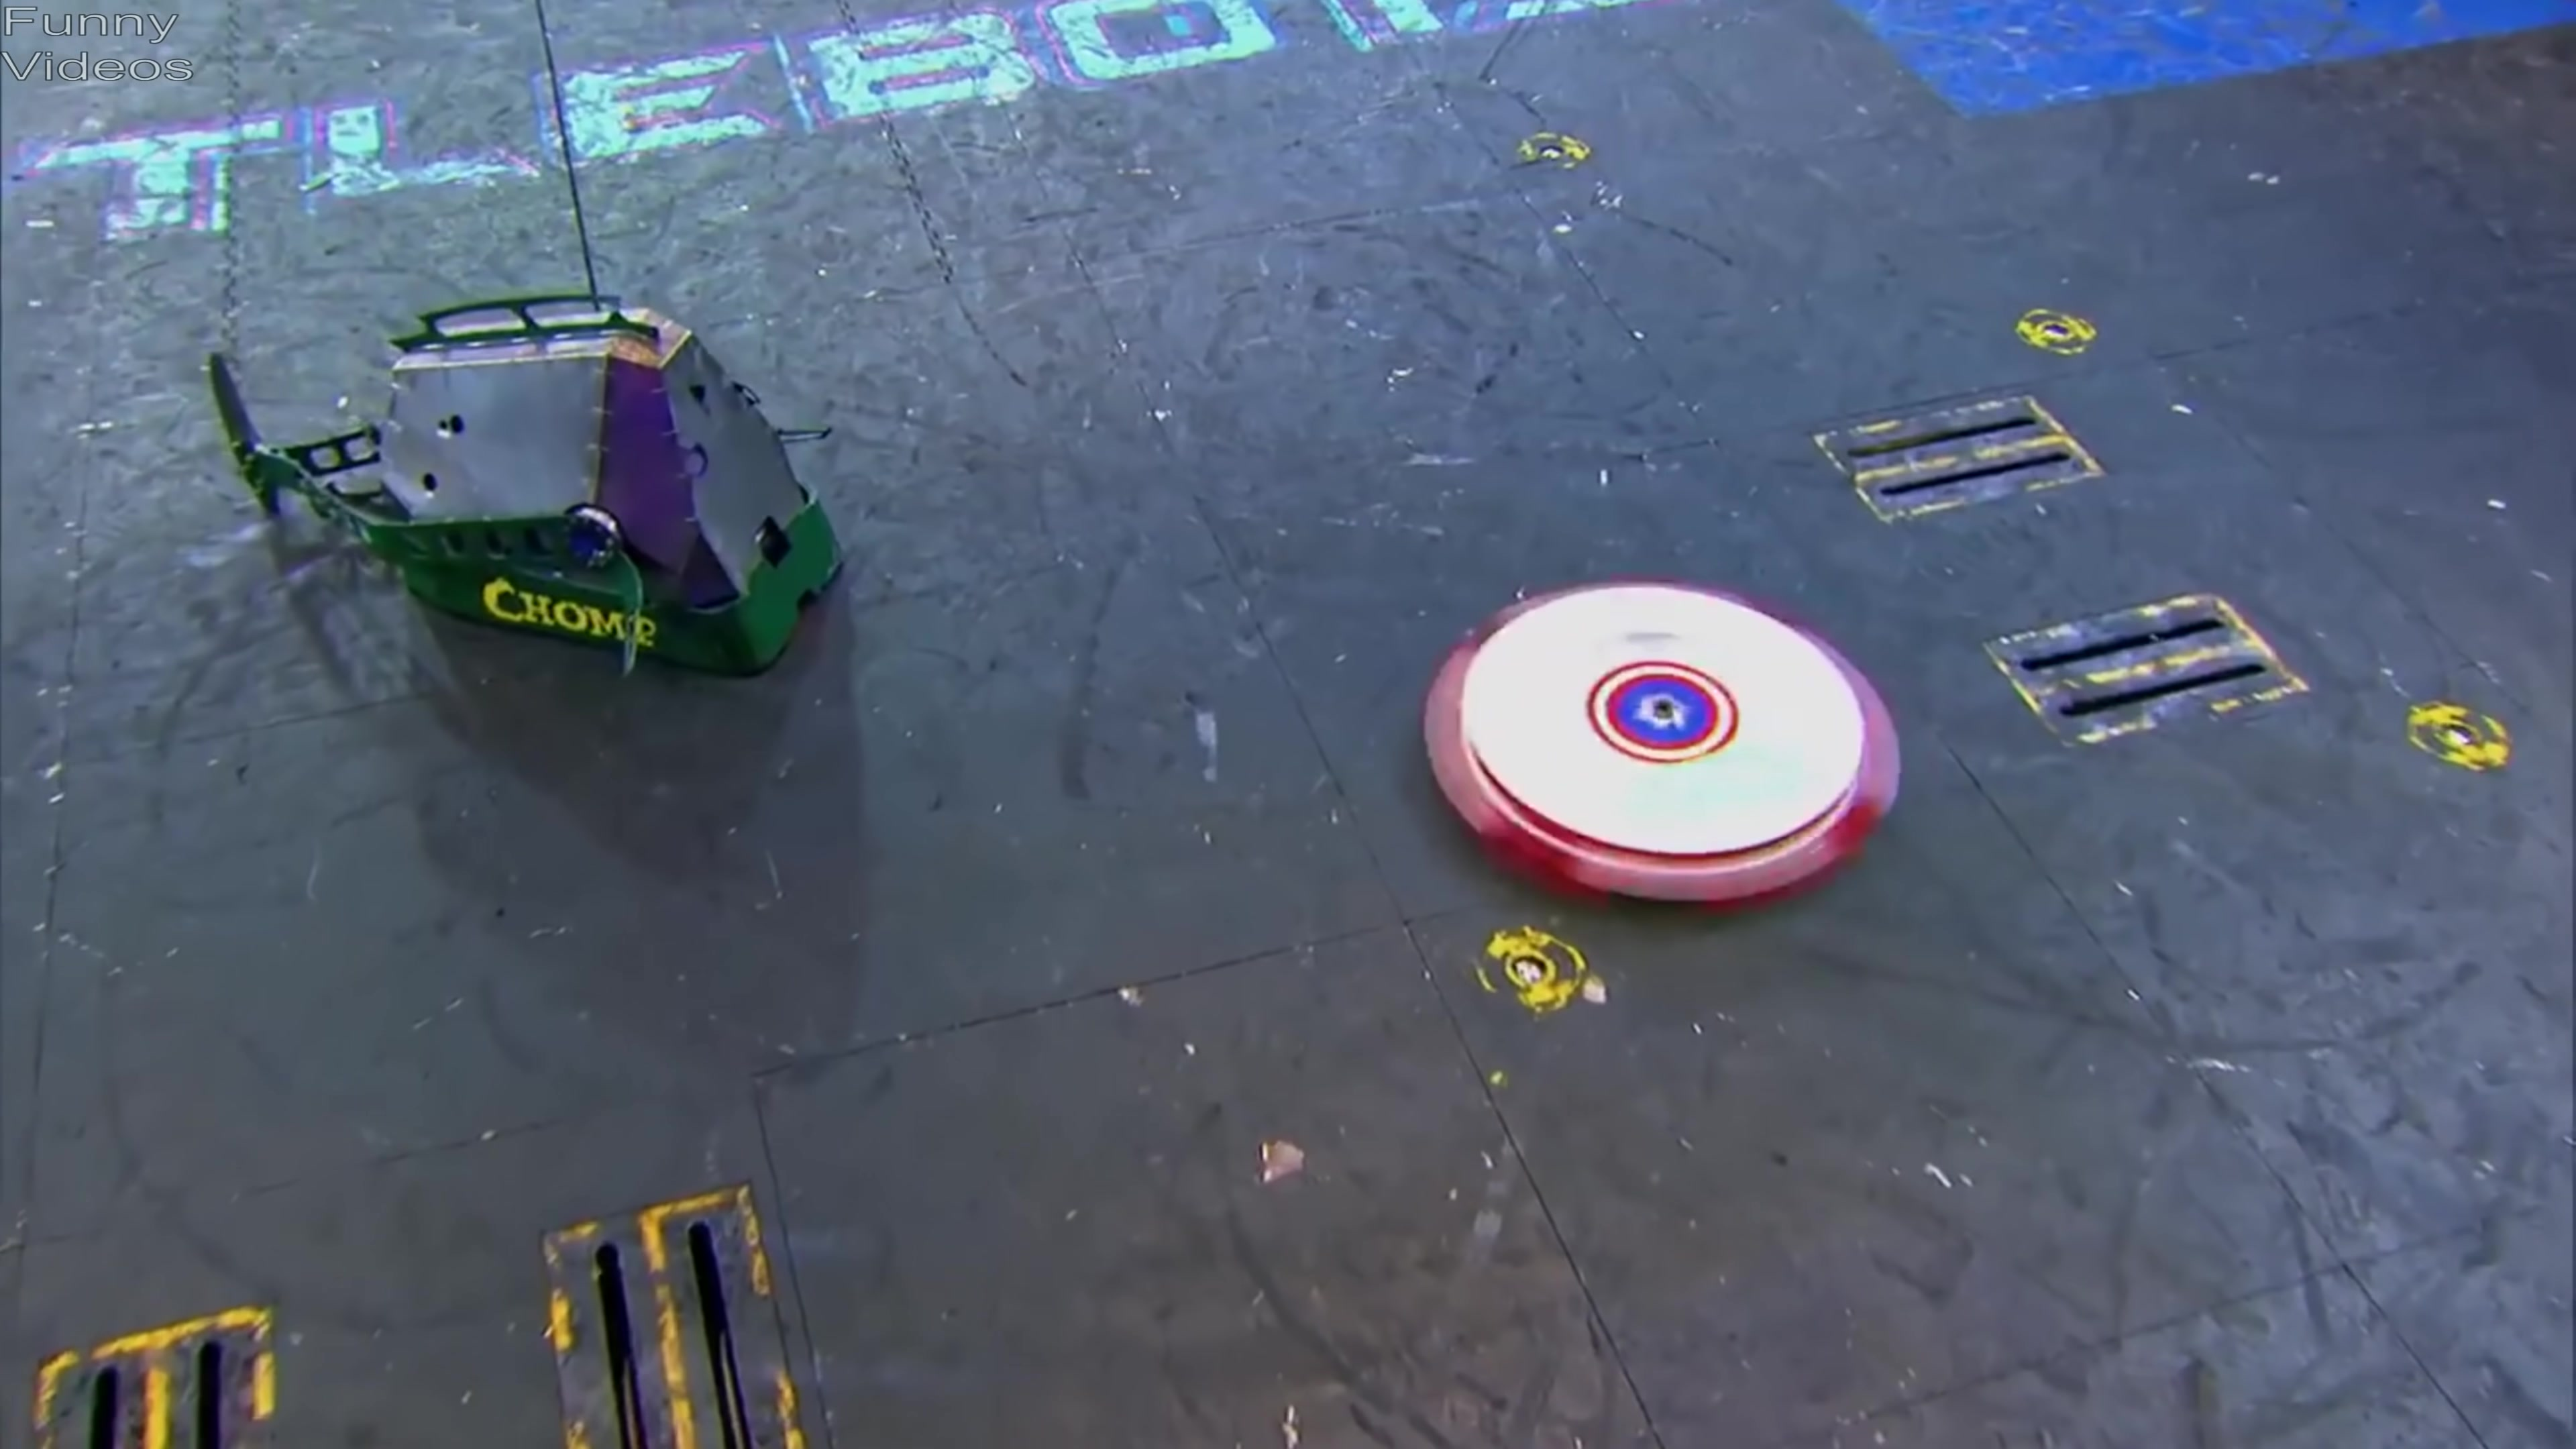combatbot: (214, 287, 863, 688), (1421, 580, 1911, 897)
